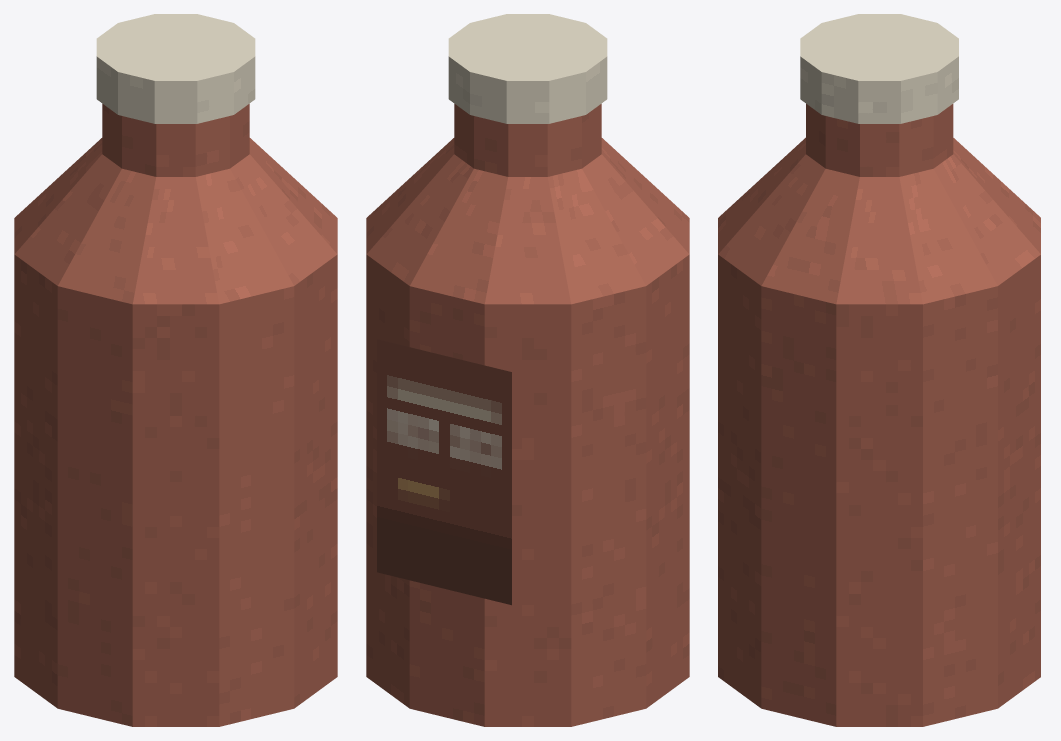
File: juice.glb
3 views of the same model, side by side, from view 1: azimuth 30°, elevation 25°; view 2: azimuth 150°, elevation 25°; view 3: azimuth 270°, elevation 25° (orthographic).
Visible parts, largest first — view 1: block_drink bottle, block_tapered shoulder, block_cap, block_neck; view 2: block_drink bottle, block_tapered shoulder, block_drink label, block_cap, block_neck; view 3: block_drink bottle, block_tapered shoulder, block_cap, block_neck.
Boxes of the visible parts, bbox=[...] form: block_drink bottle: bbox=[14, 254, 337, 726]; block_tapered shoulder: bbox=[14, 138, 337, 304]; block_cap: bbox=[96, 14, 255, 123]; block_neck: bbox=[102, 104, 249, 176]; block_drink bottle: bbox=[366, 254, 689, 726]; block_tapered shoulder: bbox=[366, 138, 689, 304]; block_drink label: bbox=[377, 339, 511, 605]; block_cap: bbox=[448, 14, 607, 123]; block_neck: bbox=[454, 104, 601, 176]; block_drink bottle: bbox=[718, 254, 1040, 726]; block_tapered shoulder: bbox=[718, 137, 1040, 304]; block_cap: bbox=[800, 14, 958, 123]; block_neck: bbox=[806, 104, 953, 176].
Bounding box in the file's own units: 0.0619 × 0.1291 × 0.0629.
1 material, 1 textured.
